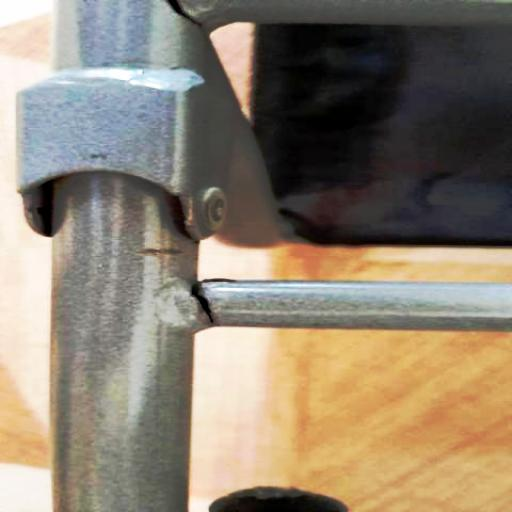crack: (178, 262, 250, 342), (165, 0, 222, 63)
